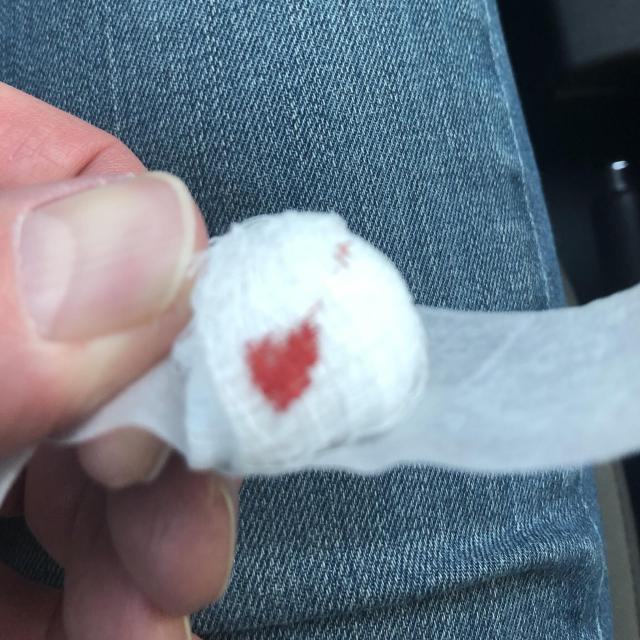B3: (193, 211, 425, 471)
